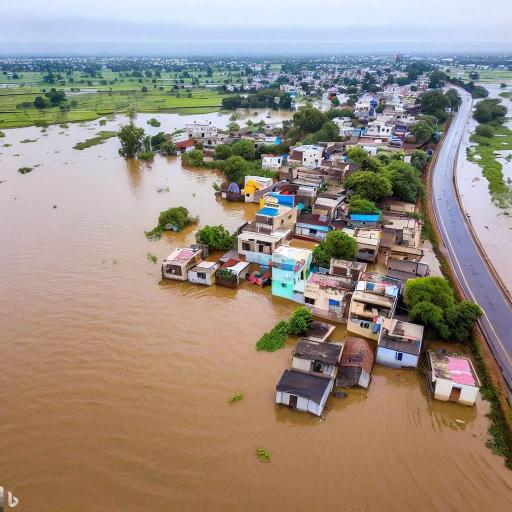flood: (0, 114, 512, 512), (458, 116, 512, 295), (136, 111, 233, 135), (236, 108, 292, 127), (497, 149, 512, 180), (502, 98, 512, 128), (486, 83, 504, 97)
house: (290, 323, 348, 387), (272, 366, 336, 416), (428, 352, 480, 404), (375, 320, 425, 372), (335, 334, 375, 392), (158, 245, 207, 285), (306, 274, 350, 317), (349, 290, 395, 324), (342, 226, 383, 262), (236, 225, 280, 255), (270, 262, 302, 302), (253, 203, 293, 233), (387, 257, 429, 283), (213, 258, 249, 288), (312, 191, 348, 220), (189, 258, 220, 288), (292, 143, 320, 171), (292, 223, 330, 243), (329, 256, 362, 278), (220, 178, 246, 204), (186, 121, 218, 139), (364, 122, 396, 140), (261, 151, 287, 173)
